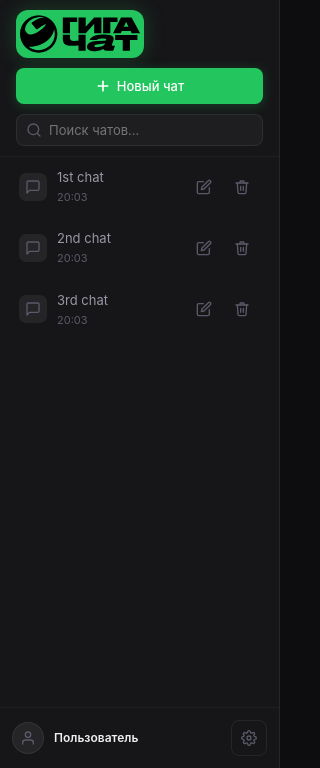
Scenario: Sidebar — фильтр поиска › чаты фильтруются по названию, которое пользователь вводит в поиск
Type "1st" into the search field labelled "Поиск чатов..." at (140, 130), box [16, 114, 263, 146]
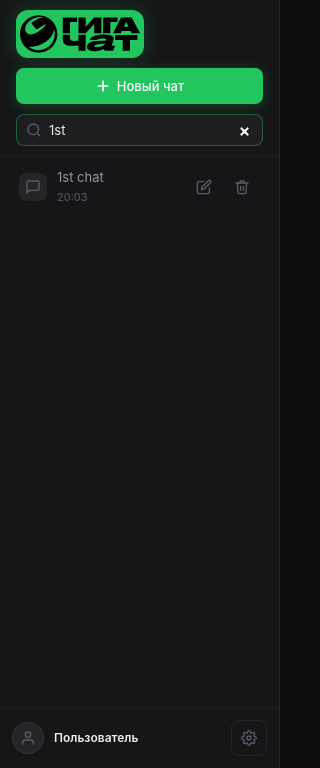
Check: the text "1st chat" is shown, box [57, 169, 104, 185]
Check: the text "2nd chat" is gone
Check: the text "3rd chat" is gone
